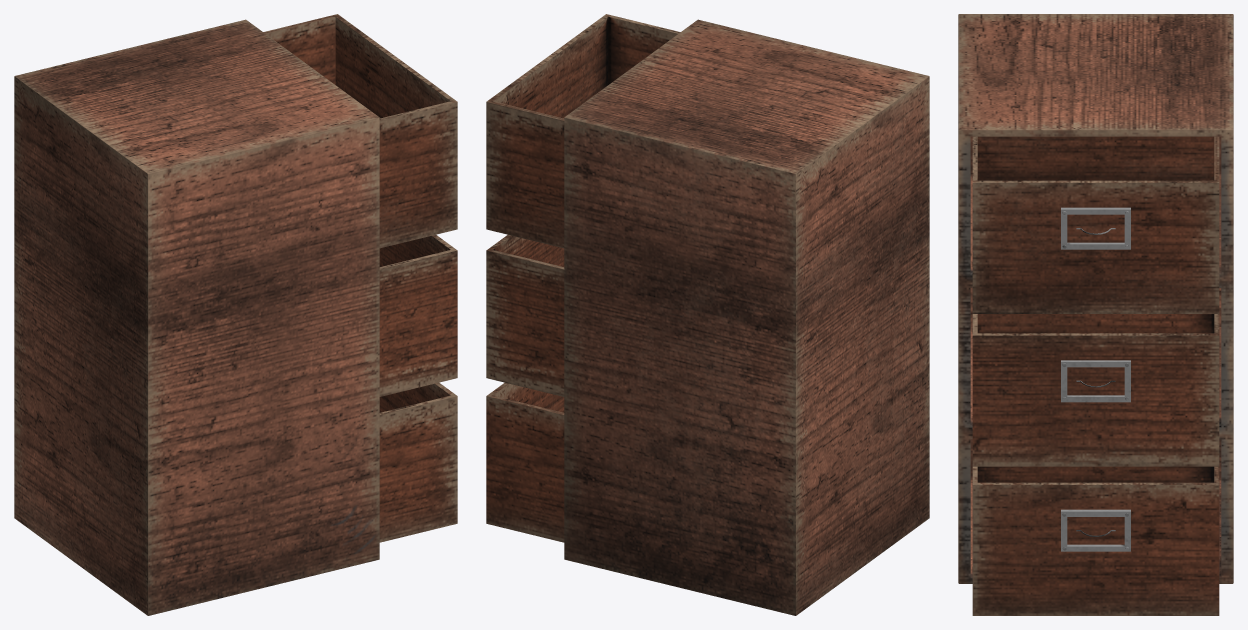
Rendered from cupboard_low.fbx.
The picture shows the model from 3 angles, left to right: view 1: azimuth 30°, elevation 25°; view 2: azimuth 150°, elevation 25°; view 3: azimuth 270°, elevation 25°; orthographic projection. The views are drawn at different scales.
Parts seen in each view (by area): view 1: pCube1, polySurface1, polySurface11, polySurface20; view 2: pCube1, polySurface1, polySurface11, polySurface20; view 3: pCube1, polySurface1, polySurface11, polySurface20.
Boxes of the visible parts, box(x1,y1,x2,y2) form: pCube1: box(14, 19, 379, 615); polySurface1: box(263, 14, 457, 248); polySurface11: box(379, 235, 457, 396); polySurface20: box(379, 382, 457, 542); pCube1: box(564, 19, 929, 615); polySurface1: box(486, 14, 680, 248); polySurface11: box(486, 235, 564, 396); polySurface20: box(486, 382, 564, 542); pCube1: box(958, 14, 1233, 583); polySurface1: box(972, 136, 1219, 313); polySurface11: box(972, 314, 1219, 466); polySurface20: box(972, 466, 1219, 615).
Size of the model in its own units: 3.67 by 4.72 by 2.59.
